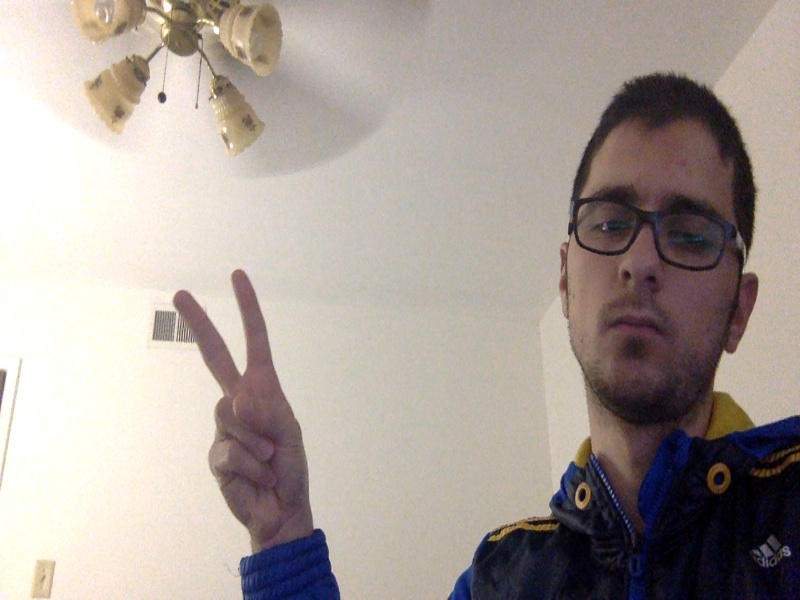2-hand: (172, 269, 308, 533)
